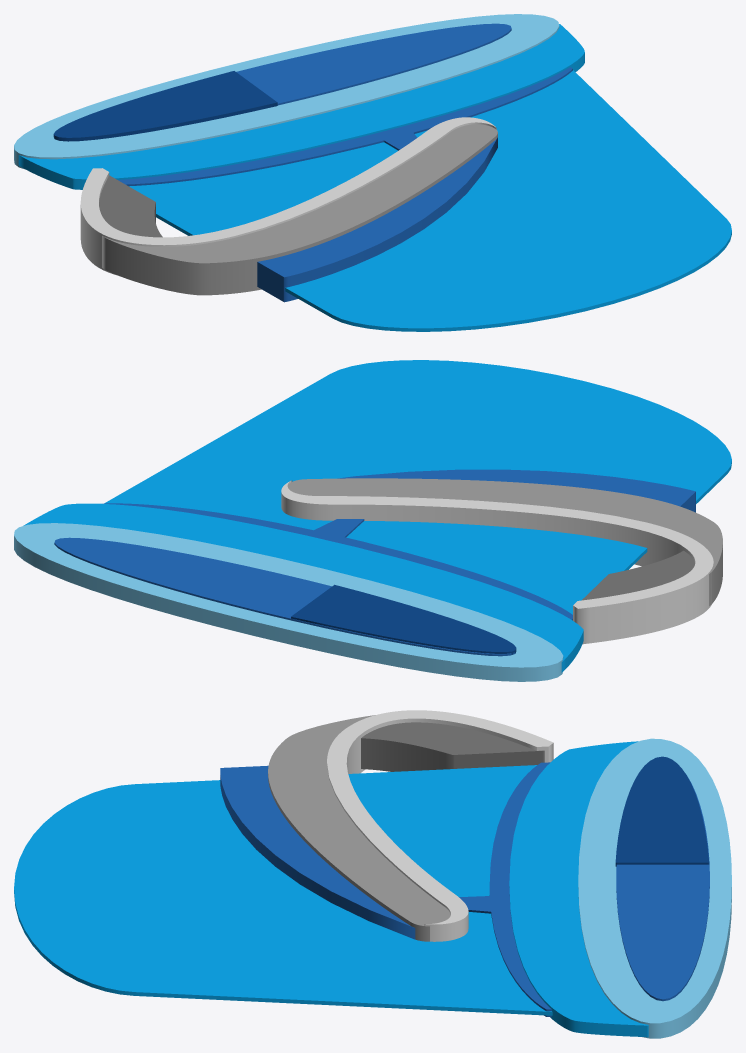
The model's file is emoji_u1faa3.glb.
3 renders of one model, top to bottom at view 1: azimuth 30°, elevation 25°; view 2: azimuth 150°, elevation 25°; view 3: azimuth 270°, elevation 25°, orthographic. The views are drawn at different scales.
Visible parts, largest first — view 1: emoji_u1faa3; view 2: emoji_u1faa3; view 3: emoji_u1faa3.
Part boxes in pixels (x1,y1,x2,y2): emoji_u1faa3: [14, 14, 731, 331]; emoji_u1faa3: [14, 360, 731, 681]; emoji_u1faa3: [14, 710, 731, 1038].
Size of the model in its own units: 0.0336 by 0.002 by 0.0338.
